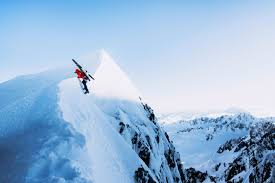skis: (77, 76, 94, 94)
